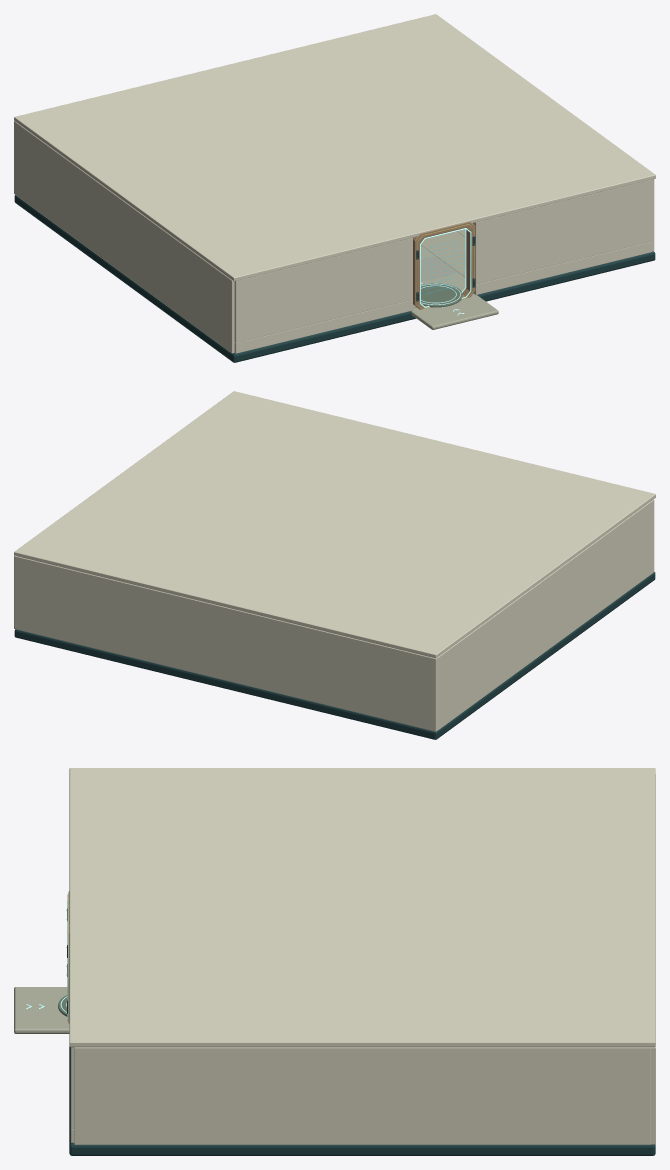
The model's file is wordking_training_room.glb.
3 renders of one model, top to bottom at view 1: azimuth 30°, elevation 25°; view 2: azimuth 150°, elevation 25°; view 3: azimuth 270°, elevation 25°, orthographic. The views are drawn at different scales.
Visible parts, largest first — view 1: SM_Enclosure_Warm_Plaster, SM_Architecture_Warm_Plaster, SM_Architecture_Deep_Teal_Frame, SM_Architecture_Limestone, SM_Portal_Limestone, SM_Portal_Honey_Oak, SM_Portal_Sage_Fabric, SM_Architecture_Limestone_Alternate, SM_Portal_Soft_Aqua_Light; view 2: SM_Enclosure_Warm_Plaster, SM_Architecture_Warm_Plaster, SM_Architecture_Deep_Teal_Frame; view 3: SM_Enclosure_Warm_Plaster, SM_Architecture_Warm_Plaster, SM_Architecture_Deep_Teal_Frame, SM_Portal_Limestone.
Part boxes in pixels (bbox=[...]): SM_Enclosure_Warm_Plaster: bbox=[14, 14, 655, 342]; SM_Architecture_Warm_Plaster: bbox=[14, 121, 654, 353]; SM_Architecture_Deep_Teal_Frame: bbox=[14, 195, 655, 362]; SM_Architecture_Limestone: bbox=[413, 229, 465, 308]; SM_Portal_Limestone: bbox=[411, 293, 498, 329]; SM_Portal_Honey_Oak: bbox=[413, 221, 475, 309]; SM_Portal_Sage_Fabric: bbox=[421, 283, 462, 307]; SM_Architecture_Limestone_Alternate: bbox=[421, 223, 472, 282]; SM_Portal_Soft_Aqua_Light: bbox=[420, 228, 471, 315]; SM_Enclosure_Warm_Plaster: bbox=[14, 391, 655, 658]; SM_Architecture_Warm_Plaster: bbox=[14, 499, 654, 731]; SM_Architecture_Deep_Teal_Frame: bbox=[14, 572, 655, 739]; SM_Enclosure_Warm_Plaster: bbox=[69, 768, 655, 1128]; SM_Architecture_Warm_Plaster: bbox=[71, 774, 655, 1144]; SM_Architecture_Deep_Teal_Frame: bbox=[69, 1047, 655, 1155]; SM_Portal_Limestone: bbox=[14, 987, 69, 1033].
Bounding box in the file's own units: 20.52 × 3.99 × 20.26.
